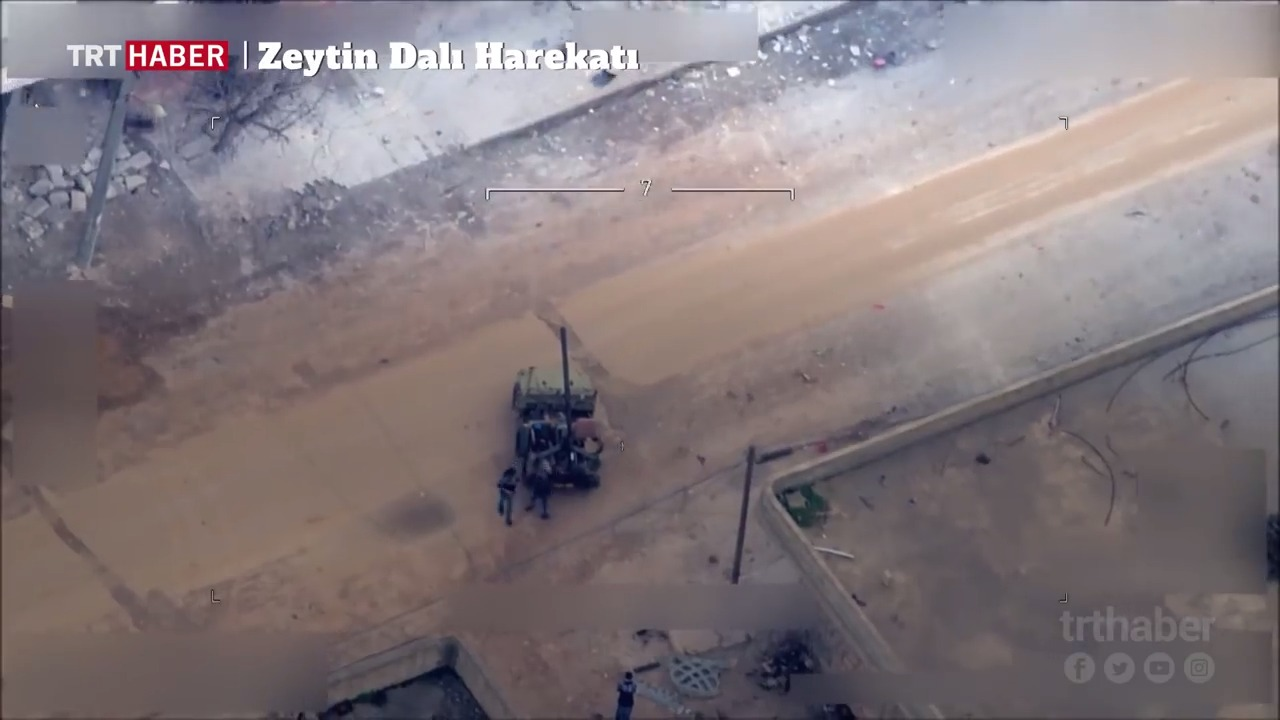arac: (513, 352, 603, 491)
insan: (483, 470, 518, 528)
